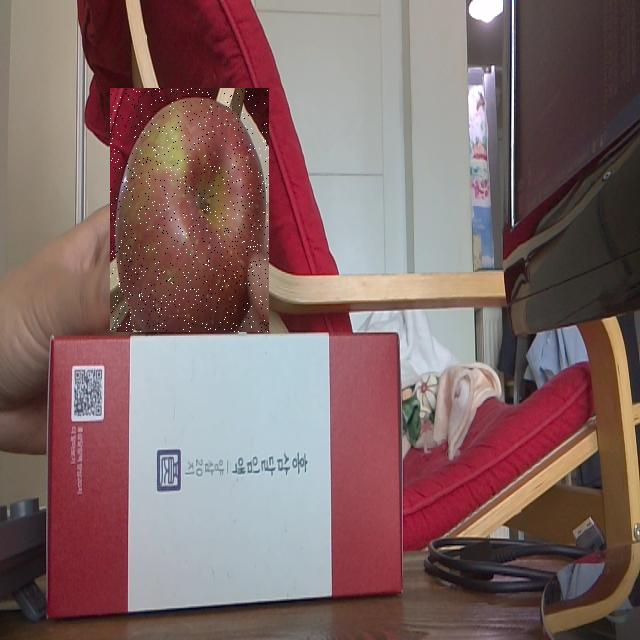apple: (110, 88, 269, 332)
